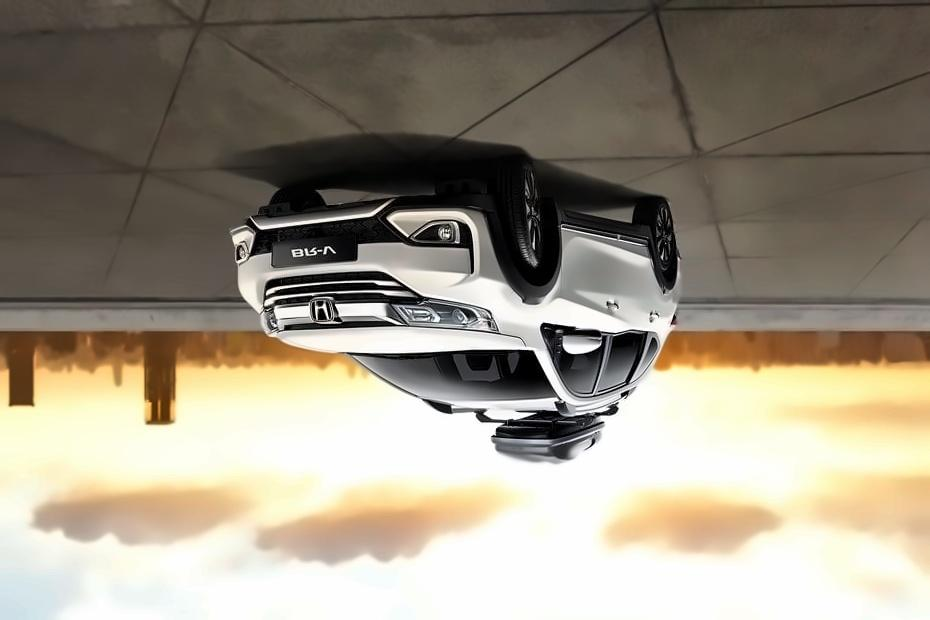Car hood: (270, 319, 530, 358)
Driver-s door - -F-R-: (538, 209, 628, 403)
Fender - -F-R-: (459, 211, 572, 355)
Front bumper: (226, 185, 485, 298)
Headlight - -R-: (390, 299, 499, 337)
Passenger-s door - -R-R-: (596, 221, 667, 412)
Side bumper - -R-: (548, 202, 662, 273)
Side mirror - -R-: (550, 328, 607, 358)
